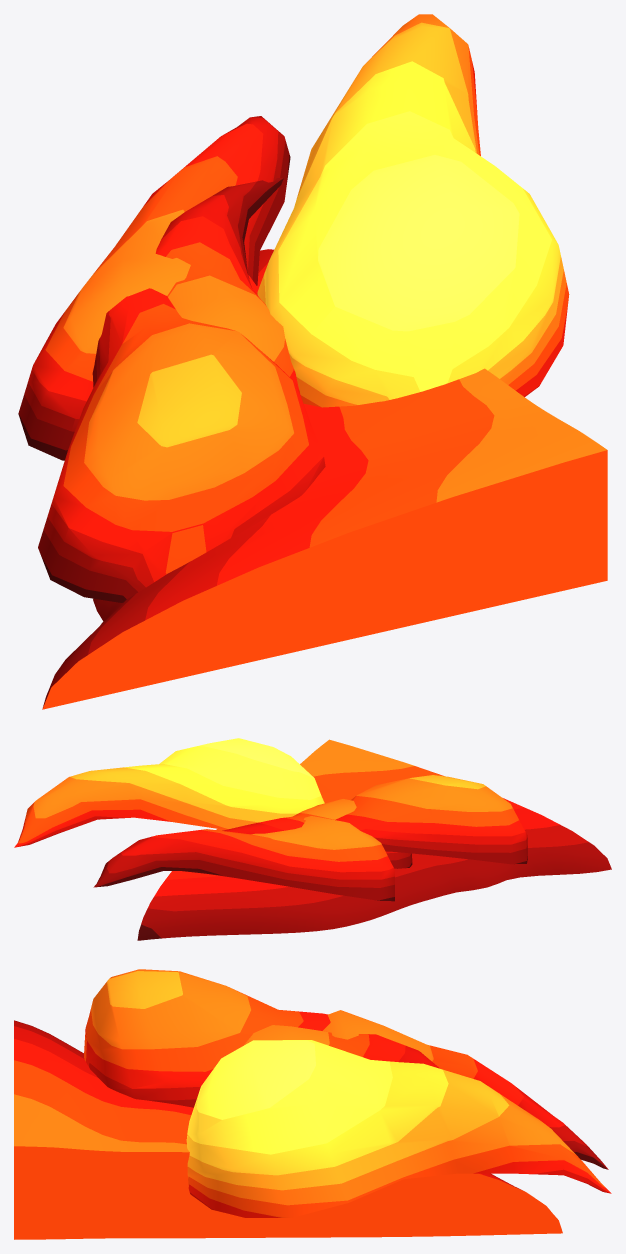
Rendered from fire_tail_l.glb.
3 renders of one model, top to bottom at view 1: azimuth 30°, elevation 25°; view 2: azimuth 150°, elevation 25°; view 3: azimuth 270°, elevation 25°, orthographic. The views are drawn at different scales.
Visible parts, largest first — view 1: fire_tail_l; view 2: fire_tail_l; view 3: fire_tail_l.
Boxes of the visible parts, x1,y1,x2,y2 form: fire_tail_l: (18, 14, 607, 709); fire_tail_l: (14, 738, 611, 940); fire_tail_l: (14, 969, 611, 1239).
Size of the model in its own units: 24.32 by 8.11 by 22.33.
